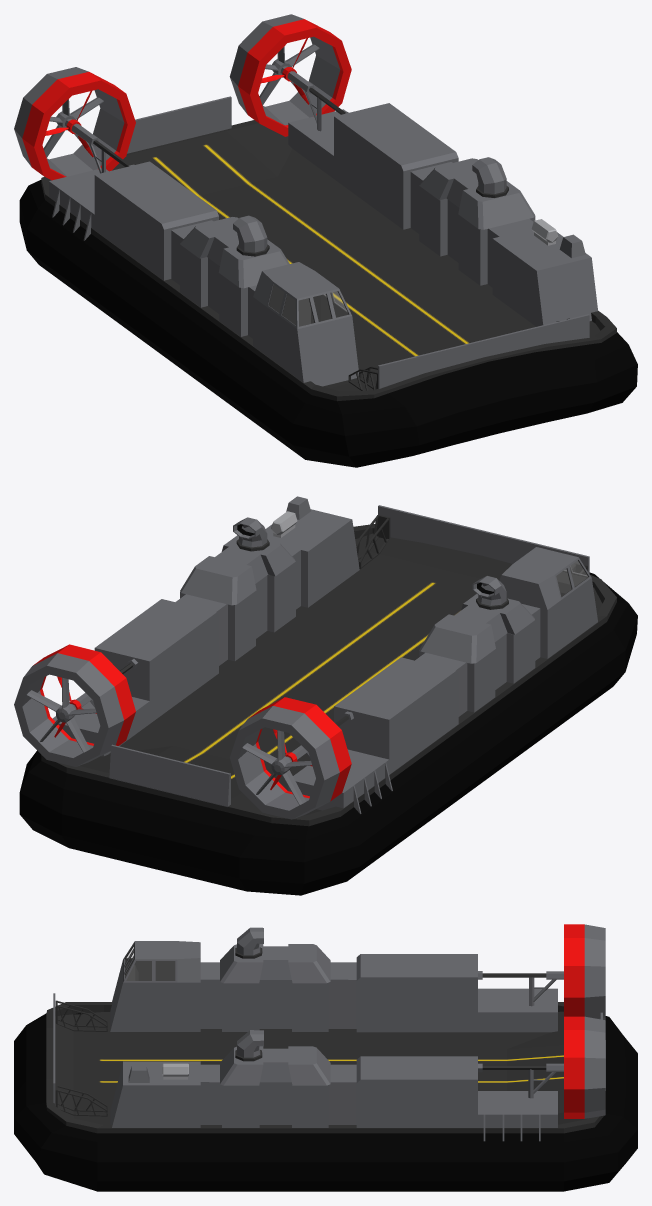
3 views of the same model, one above another, from view 1: azimuth 30°, elevation 25°; view 2: azimuth 150°, elevation 25°; view 3: azimuth 270°, elevation 25° (orthographic). The views are drawn at different scales.
Parts seen in each view (by area): view 1: Cylinder.010, Cylinder.014, Cylinder.011; view 2: Cylinder.010, Cylinder.014; view 3: Cylinder.010, Cylinder.011.
Boxes of the visible parts, x1,y1,x2,y2 form: Cylinder.010: [14, 14, 637, 467]; Cylinder.014: [127, 96, 231, 153]; Cylinder.011: [269, 285, 347, 325]; Cylinder.010: [14, 496, 637, 895]; Cylinder.014: [109, 744, 230, 806]; Cylinder.010: [14, 924, 637, 1191]; Cylinder.011: [126, 947, 174, 980].
Bounding box in the file's own units: 1343 × 680 × 2491.
